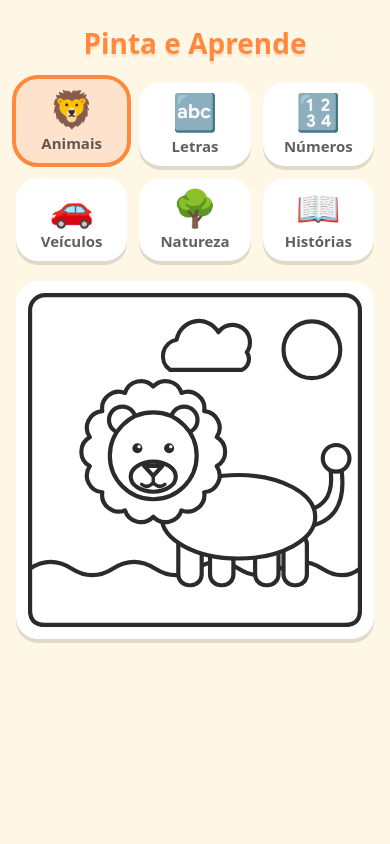
App › goes back home
Click the button named "O Leão" at (195, 460), box [16,281,374,639]
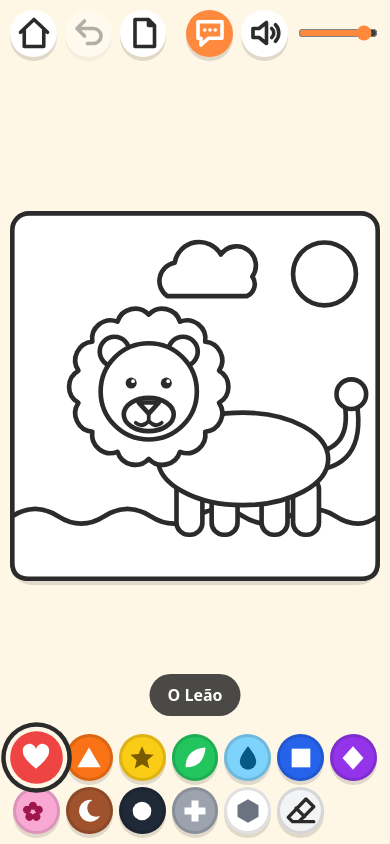
Click the button named "Voltar ao início" at (33, 33), box [10,10,57,57]
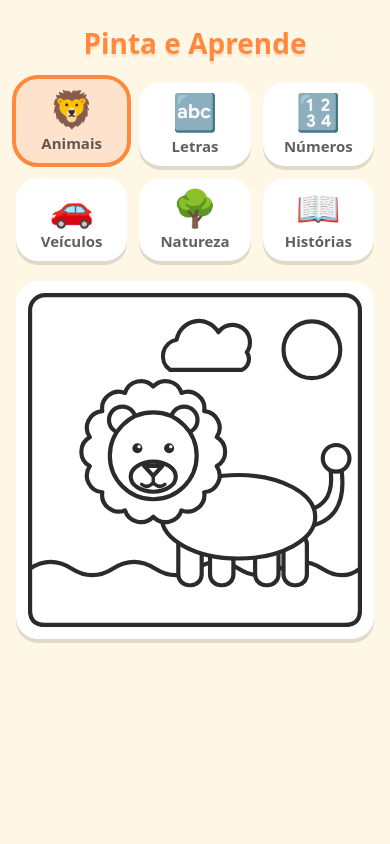
Result: the heading "Pinta e Aprende" is shown at [83,24,306,62]
